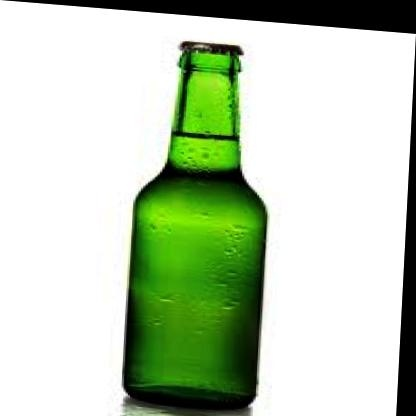trash: (124, 42, 266, 407)
